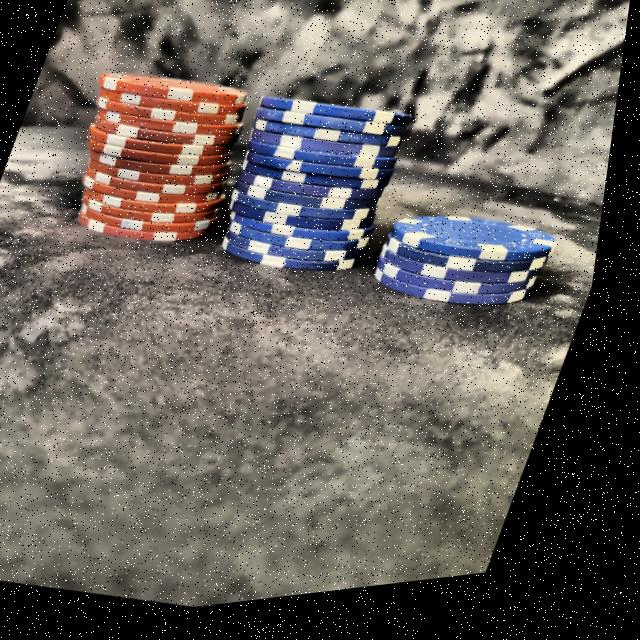Chip: (198, 57, 436, 326), (38, 27, 281, 286), (365, 187, 575, 354)
